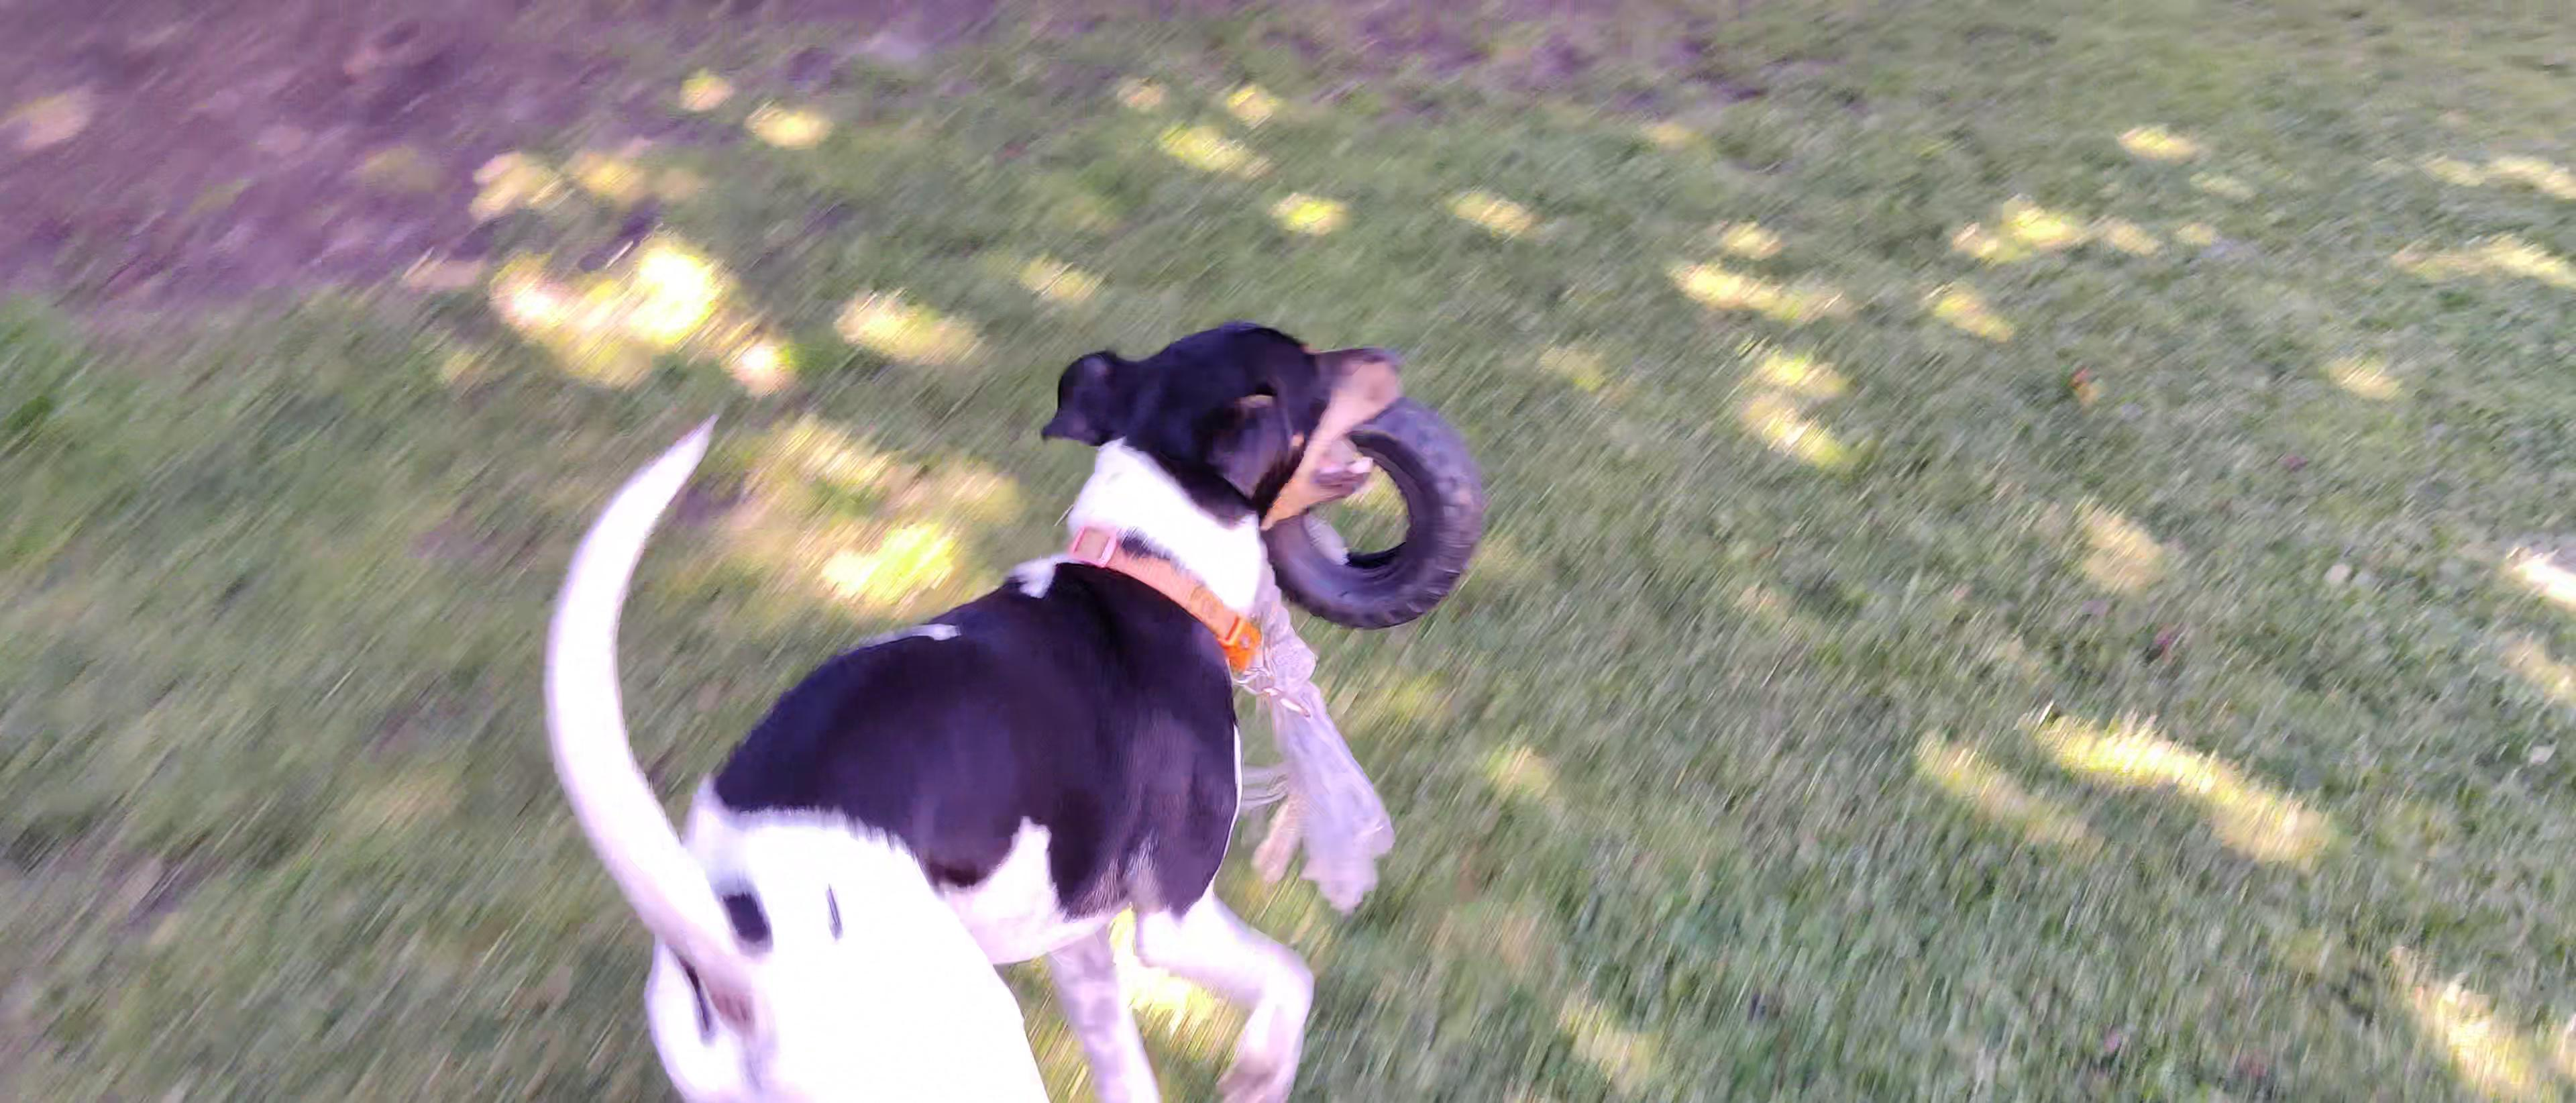Dog: (536, 314, 1411, 1103)
